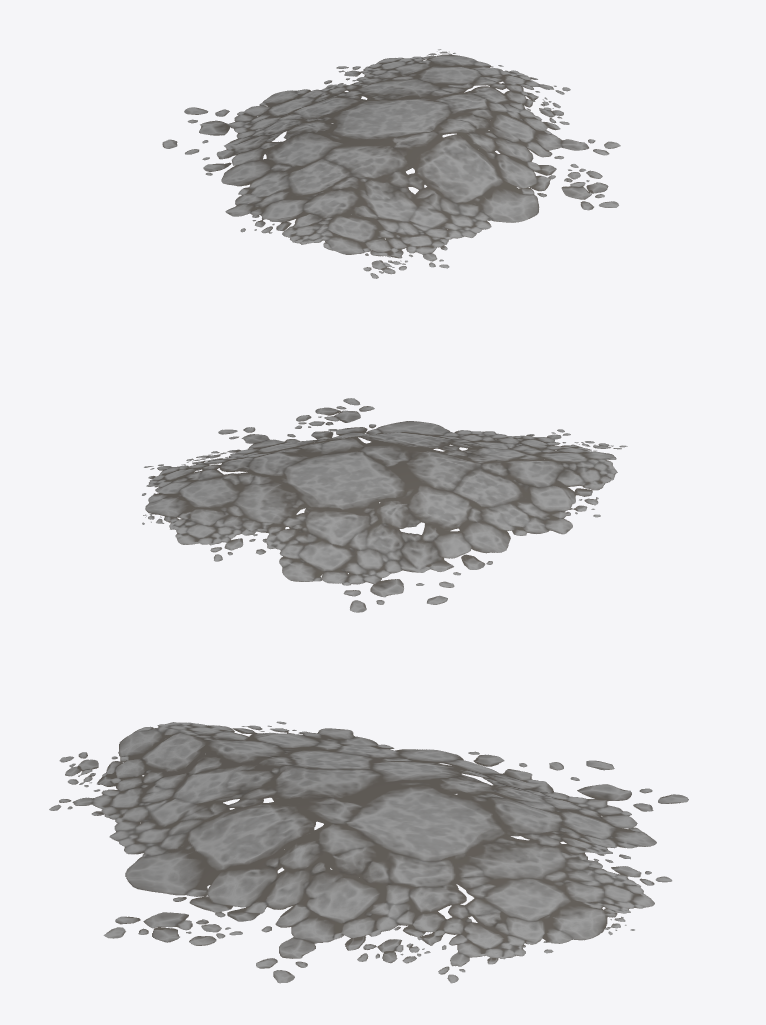
The model's file is Ground_decal.fbx.
3 renders of one model, top to bottom at view 1: azimuth 30°, elevation 25°; view 2: azimuth 150°, elevation 25°; view 3: azimuth 270°, elevation 25°, orthographic. The views are drawn at different scales.
Visible parts, largest first — view 1: Ground_decal; view 2: Ground_decal; view 3: Ground_decal.
Boxes of the visible parts, <box> form: Ground_decal: <box>162,49,620,278</box>; Ground_decal: <box>142,398,627,612</box>; Ground_decal: <box>49,721,688,983</box>.
Size of the model in its own units: 150 by 13.23 by 150.
Materials: 1 (1 with a texture image).
